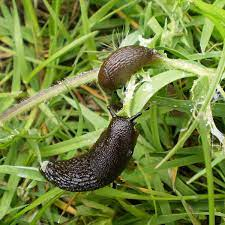slug: (42, 111, 140, 189), (99, 43, 161, 89)
